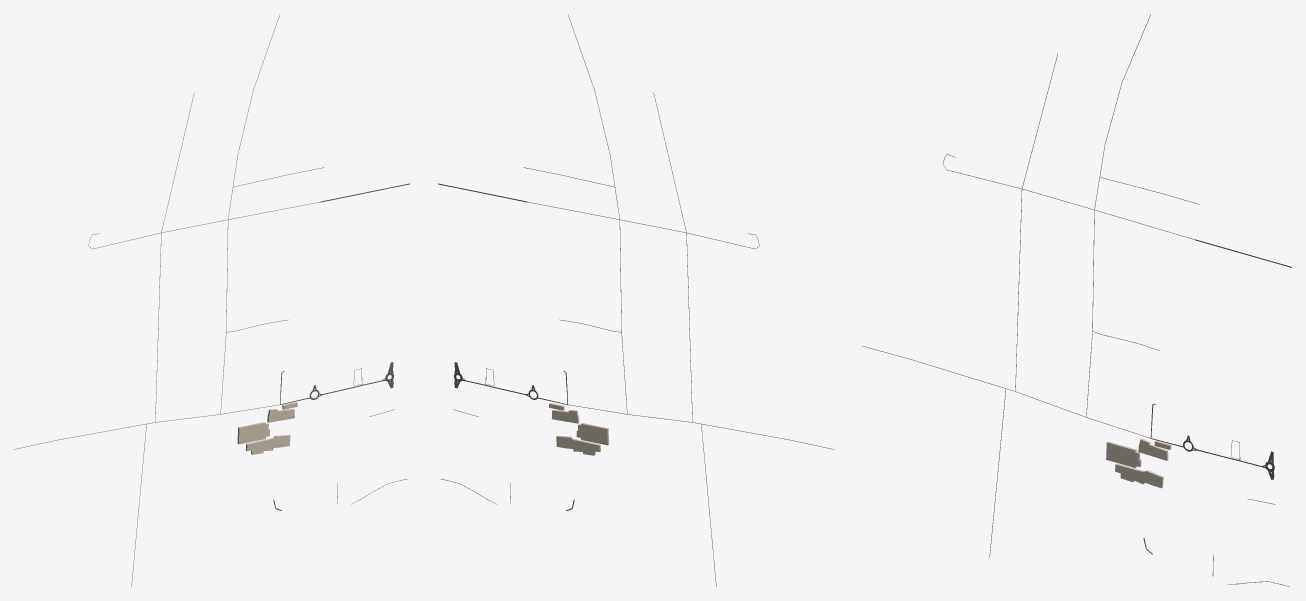
Rendered from historic-palestine-07_29_3488_3233.glb.
The picture shows the model from 3 angles, left to right: view 1: azimuth 30°, elevation 25°; view 2: azimuth 150°, elevation 25°; view 3: azimuth 330°, elevation 25°; orthographic projection. The views are drawn at different scales.
Visible parts, largest first — view 1: Building_.001, Building_; view 2: Building_.001, Building_; view 3: Building_.001, Building_.
Boxes of the visible parts, x1=… form: Building_.001: x1=237, y1=422, x2=269, y2=444; Building_: x1=245, y1=434, x2=290, y2=454; Building_.001: x1=576, y1=423, x2=609, y2=445; Building_: x1=556, y1=435, x2=600, y2=455; Building_.001: x1=1106, y1=441, x2=1141, y2=467; Building_: x1=1115, y1=463, x2=1163, y2=488.
Size of the model in its own units: 1342 by 1740 by 8.7.
